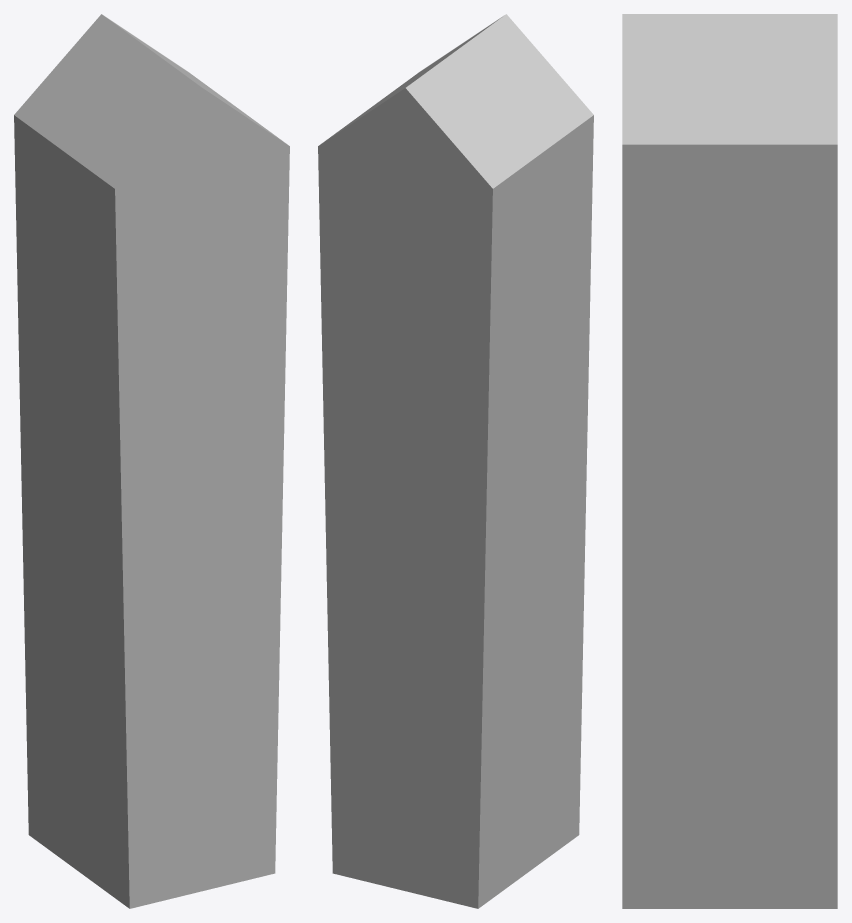
File: Fence 5 (pillar).fbx
3 renders of one model, left to right at view 1: azimuth 30°, elevation 25°; view 2: azimuth 150°, elevation 25°; view 3: azimuth 270°, elevation 25°, orthographic. The views are drawn at different scales.
Parts seen in each view (by area): view 1: Fence 5 (pillar); view 2: Fence 5 (pillar); view 3: Fence 5 (pillar).
Boxes of the visible parts, <box> form: Fence 5 (pillar): <box>14,14,289,908</box>; Fence 5 (pillar): <box>318,14,593,908</box>; Fence 5 (pillar): <box>622,14,837,908</box>.
Bounding box in the file's own units: 52.8 × 232 × 52.8.
